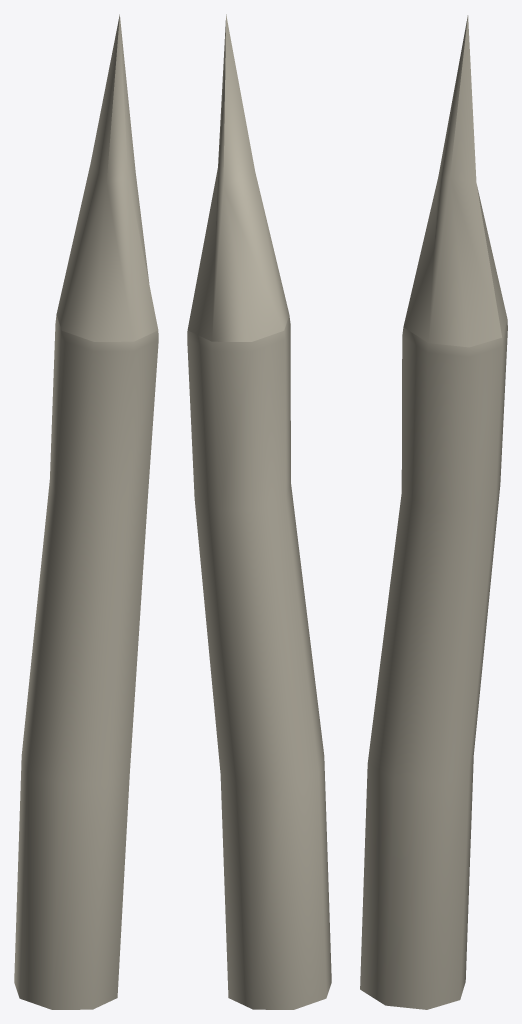
The model's file is Spike_03.fbx.
3 renders of one model, left to right at view 1: azimuth 30°, elevation 25°; view 2: azimuth 150°, elevation 25°; view 3: azimuth 330°, elevation 25°, orthographic. The views are drawn at different scales.
Parts seen in each view (by area): view 1: Spike_03; view 2: Spike_03; view 3: Spike_03.
Boxes of the visible parts, x1,y1,x2,y2 form: Spike_03: (14,14,158,1009); Spike_03: (187,14,331,1009); Spike_03: (360,15,507,1009).
Size of the model in its own units: 7.97 by 54.95 by 5.76.
